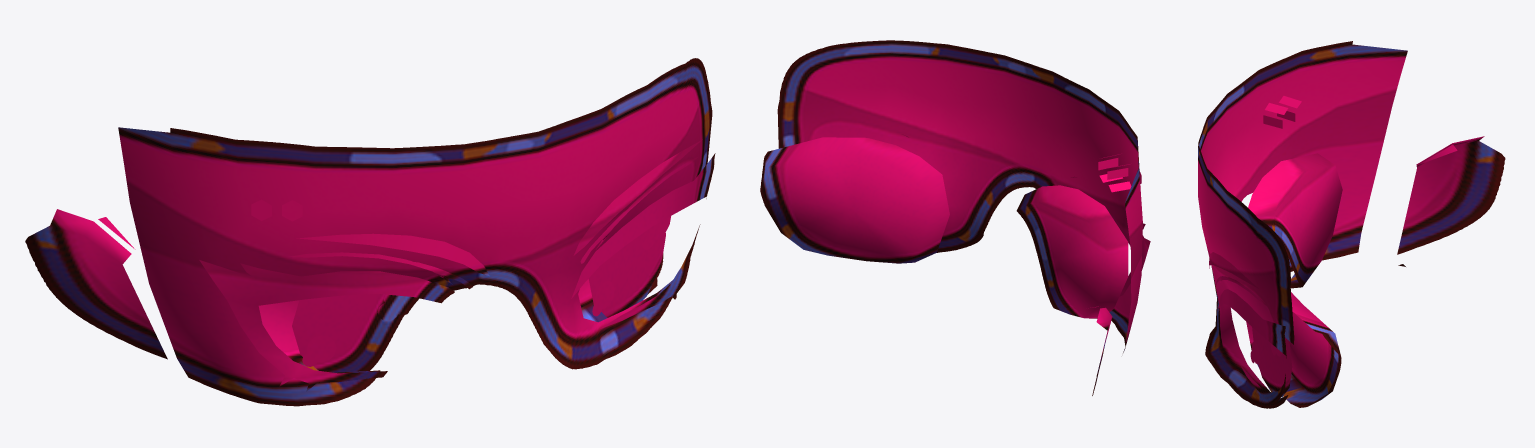
File: 11_009_Mask_Miami-Sunglasses.glb
The picture shows the model from 3 angles, left to right: view 1: azimuth 30°, elevation 25°; view 2: azimuth 150°, elevation 25°; view 3: azimuth 270°, elevation 25°; orthographic projection. The views are drawn at different scales.
Visible parts, largest first — view 1: 11_009_Mask_Miami-Sunglasses; view 2: 11_009_Mask_Miami-Sunglasses; view 3: 11_009_Mask_Miami-Sunglasses.
Part boxes in pixels (x1=…): 11_009_Mask_Miami-Sunglasses: x1=25, y1=58, x2=715, y2=406; 11_009_Mask_Miami-Sunglasses: x1=760, y1=40, x2=1150, y2=395; 11_009_Mask_Miami-Sunglasses: x1=1198, y1=41, x2=1505, y2=408.
Size of the model in its own units: 0.2929 by 0.1657 by 0.1907.
Materials: 1 (1 with a texture image).
